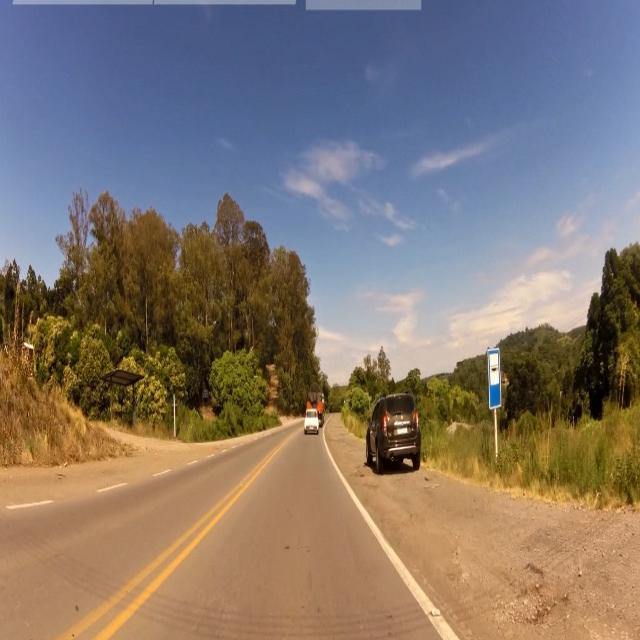S-14: (486, 348, 504, 413)
